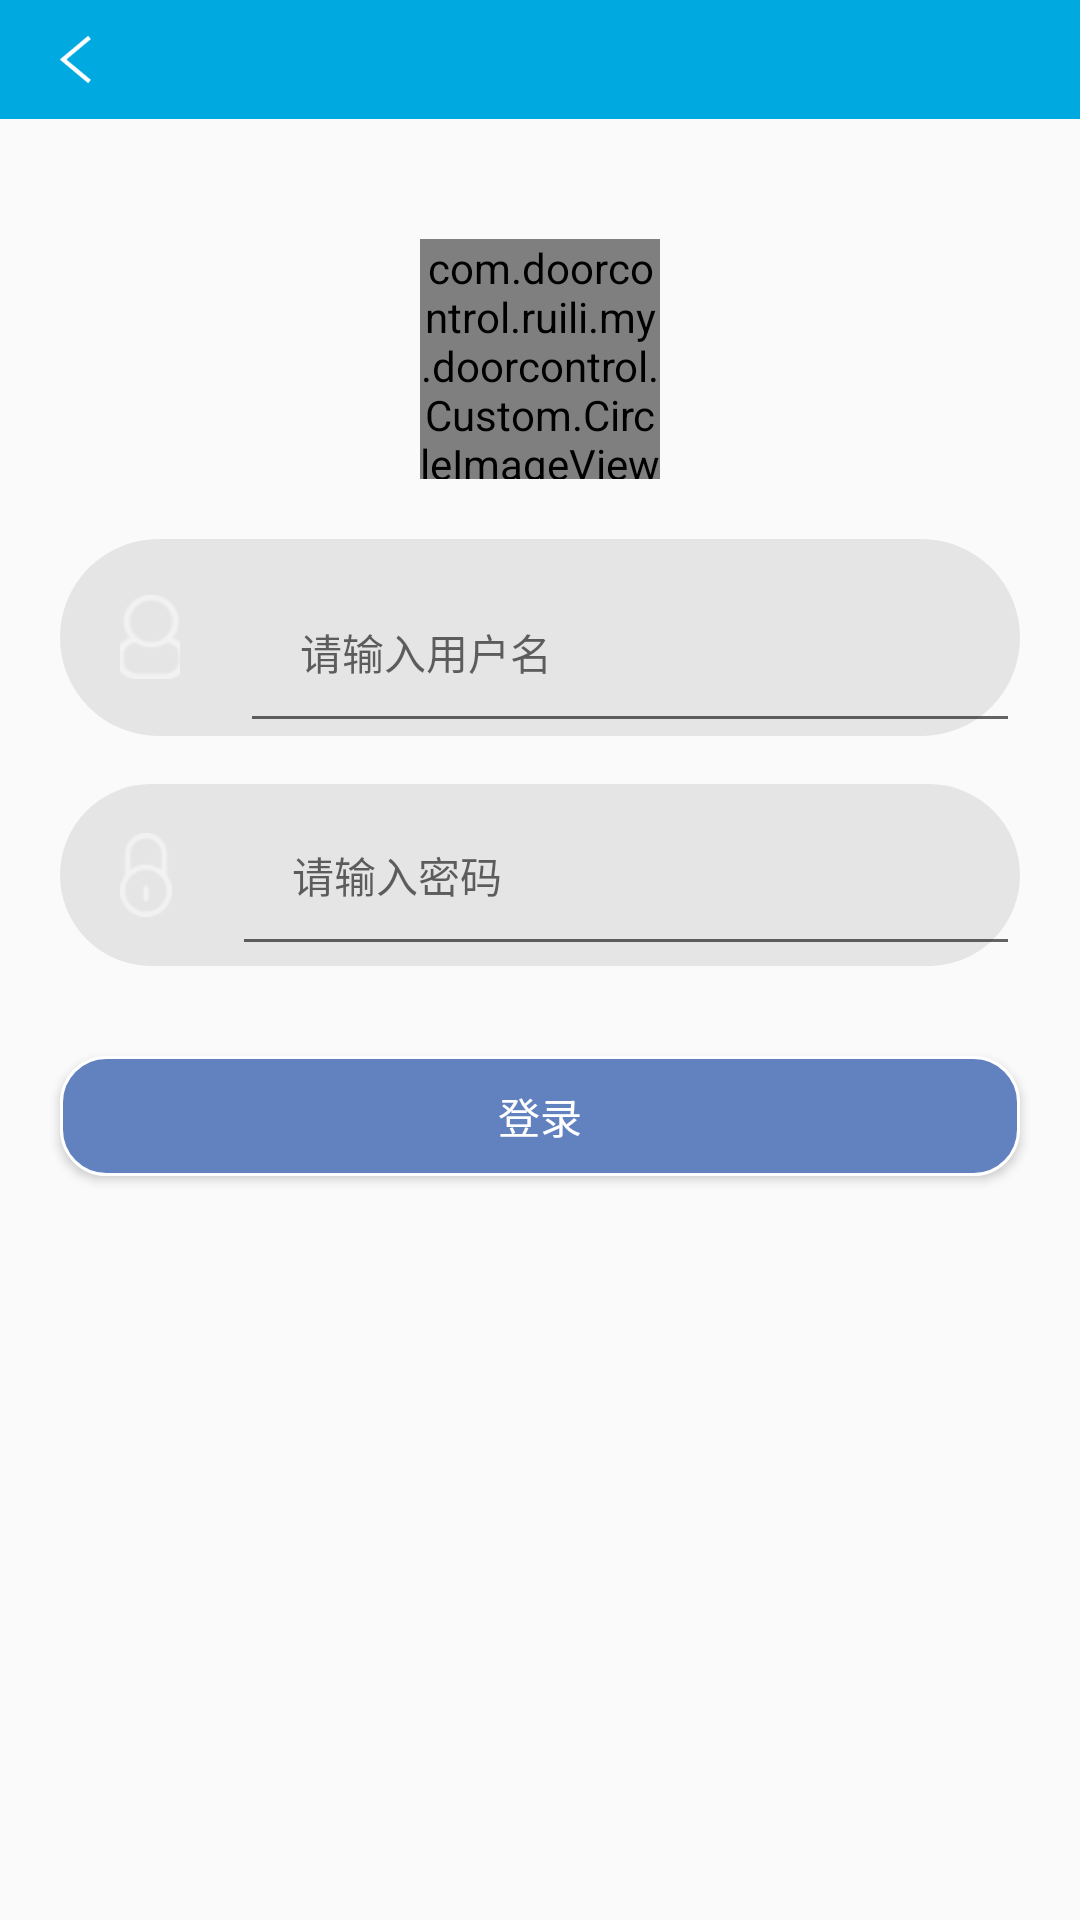

Icons on this 1080x1920 Android screen, each with its box as (x1, y1, x2, y2):
back: (60, 36, 91, 83)
